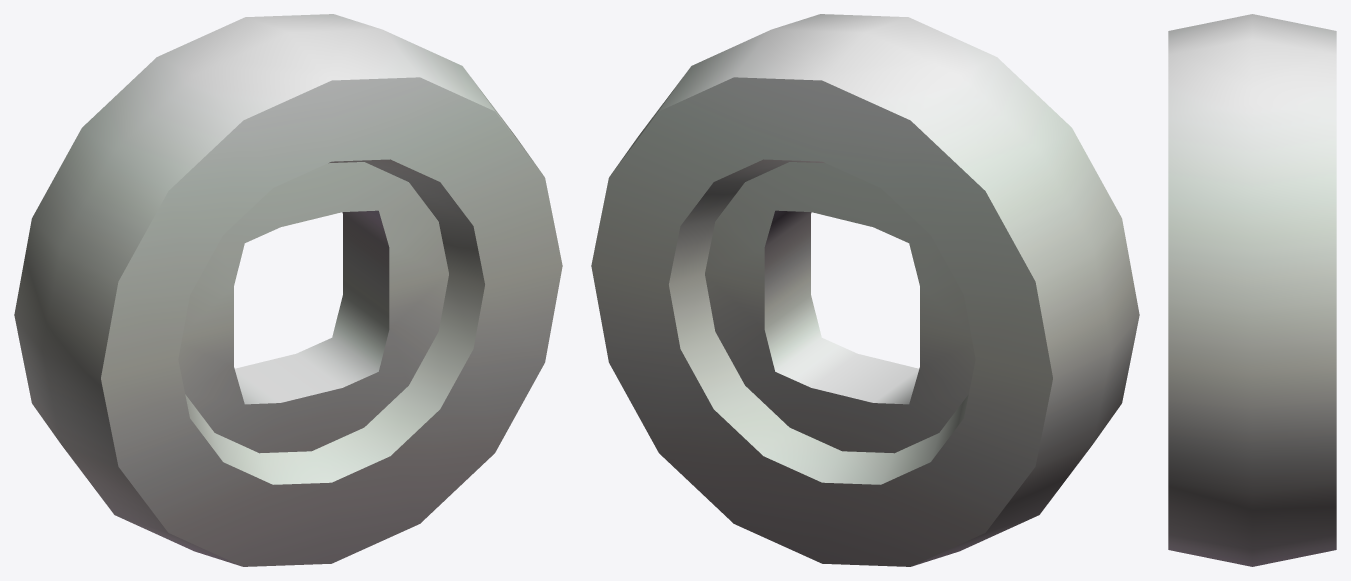
Rendered from Silver_Hole_Coin_01.glb.
3 renders of one model, left to right at view 1: azimuth 30°, elevation 25°; view 2: azimuth 150°, elevation 25°; view 3: azimuth 270°, elevation 25°, orthographic. The views are drawn at different scales.
Visible parts, largest first — view 1: Silver_Hole_Coin_01; view 2: Silver_Hole_Coin_01; view 3: Silver_Hole_Coin_01.
Part boxes in pixels (left/top/right/bottom): Silver_Hole_Coin_01: left=14, top=14, right=562, bottom=566; Silver_Hole_Coin_01: left=591, top=14, right=1139, bottom=566; Silver_Hole_Coin_01: left=1168, top=14, right=1336, bottom=566.
Bounding box in the file's own units: 0.2475 × 0.2475 × 0.0754.
1 material, 1 textured.
